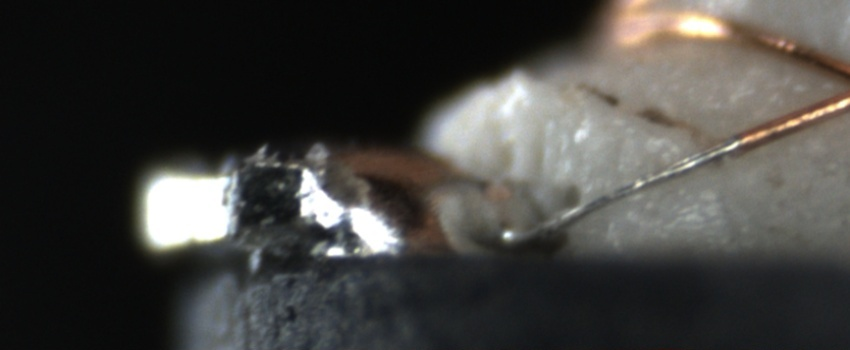TS: (504, 133, 740, 247)
